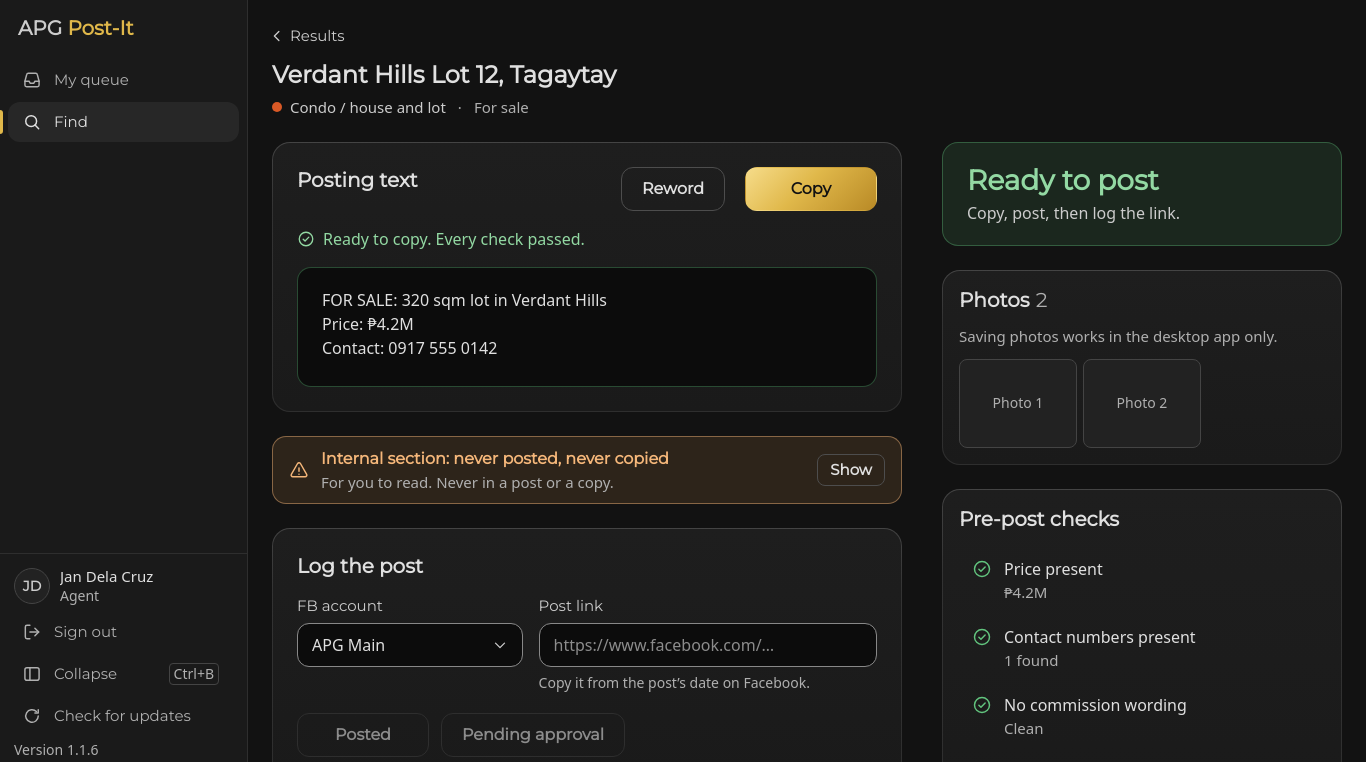
Scenario: rewording with Claude › puts Firebase's own failure internal internal [500] in words
This screenshot has width=1366, height=762.
Expected: the text "Ready to copy. Every check passed." is shown, [323,227,585,251]
Click the button "Reword".
click(673, 189)  # box [621,167,725,211]
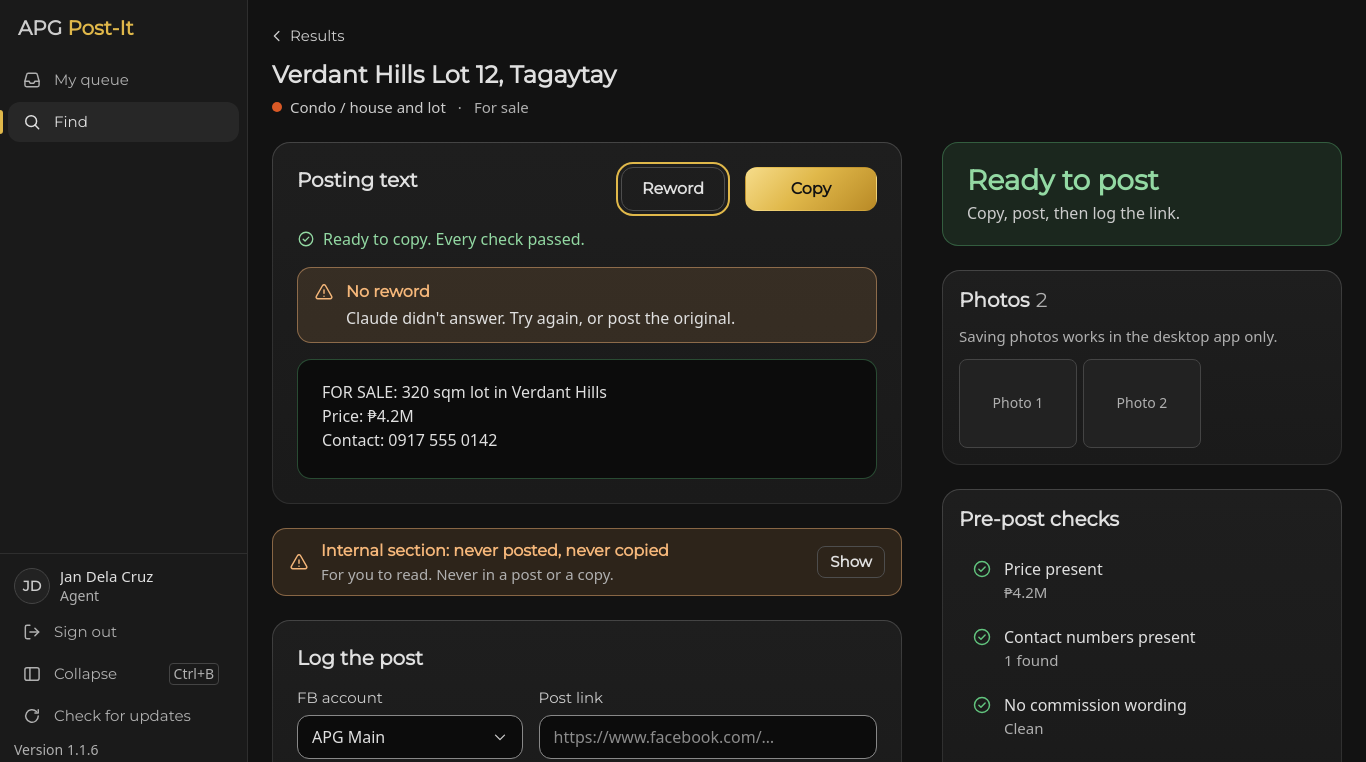
Expected: the text "Claude didn't answer. Try again, or post the original." is shown, [346,307,735,329]
